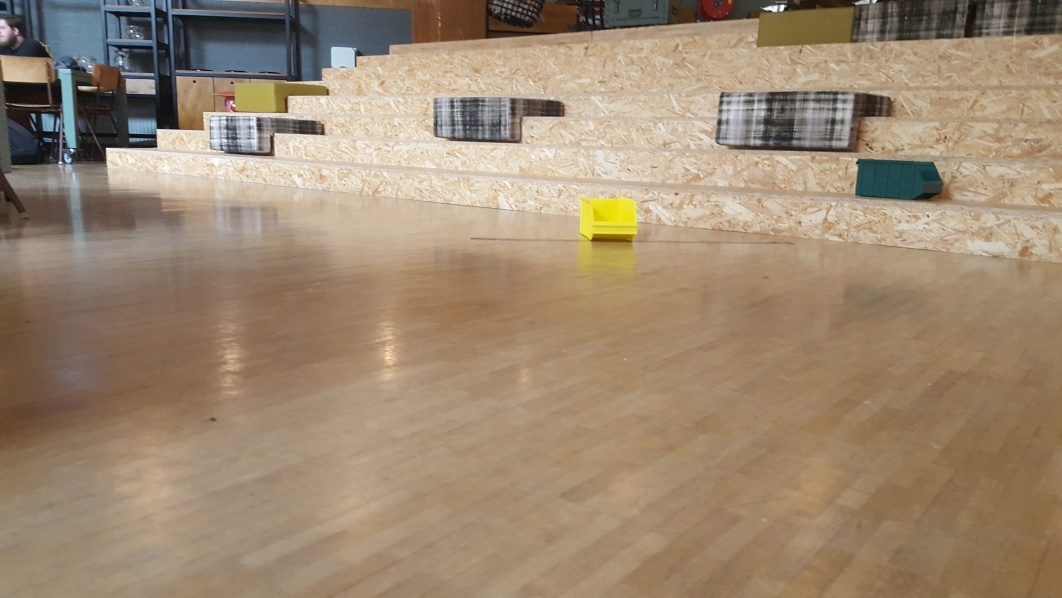tray: (854, 156, 944, 205), (574, 193, 641, 243)
